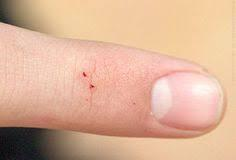Spider: (72, 61, 96, 93)
